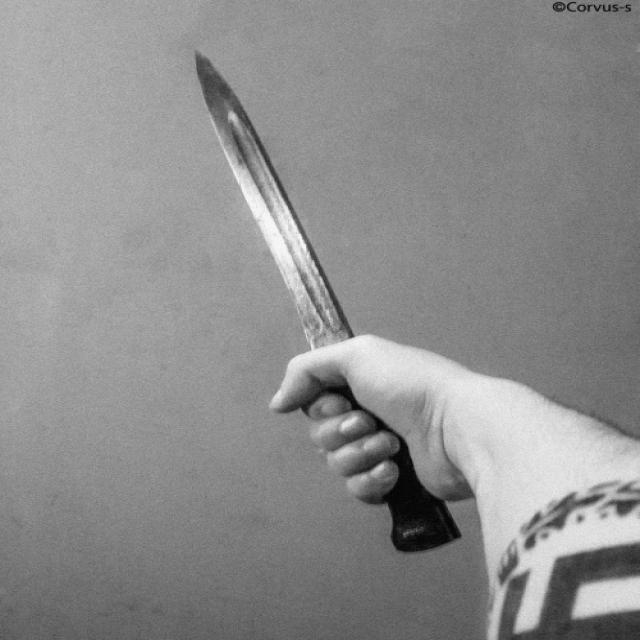knife: (183, 40, 471, 562)
